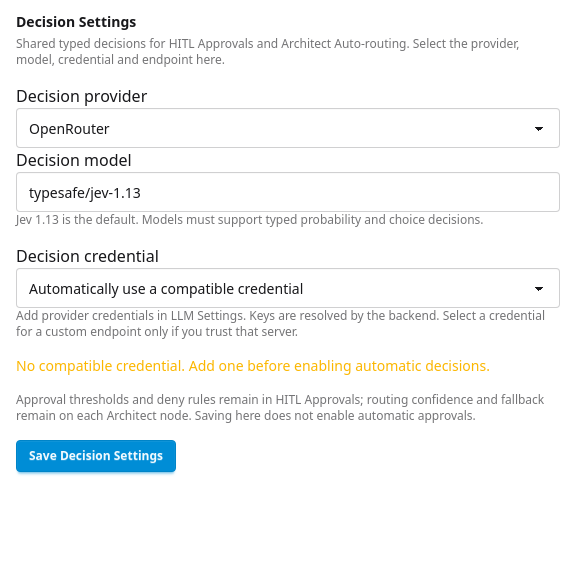
it: DecisionSettingsPanel › retains the draft after a denied save and lets the user retry
Replace the text in the field labelled "Decision model" with "draft": (288, 192) x1=16 y1=172 x2=560 y2=212
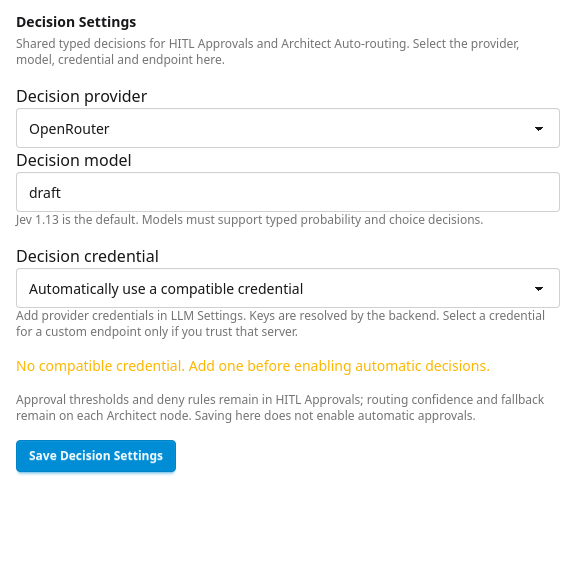
Click the button "Save Decision Settings": (96, 456) x1=16 y1=440 x2=176 y2=472
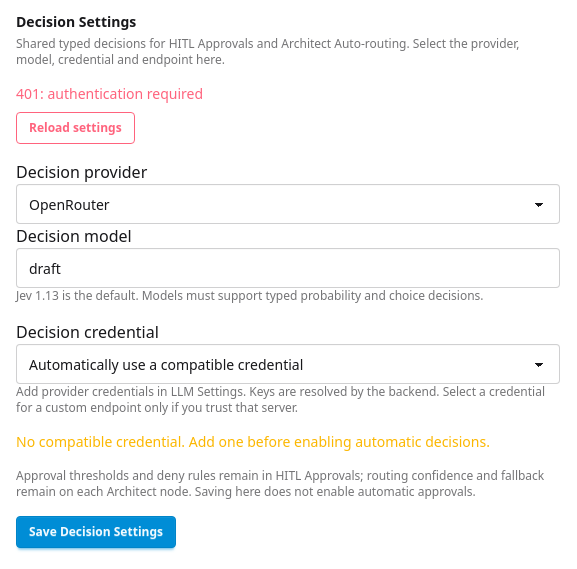
Expected: the text "Decision Settings saved." is not shown
Expected: the message "401: authentication required Reload settings" is shown, x1=16 y1=84 x2=203 y2=144
Click the button "Save Decision Settings": (96, 532) x1=16 y1=516 x2=176 y2=548
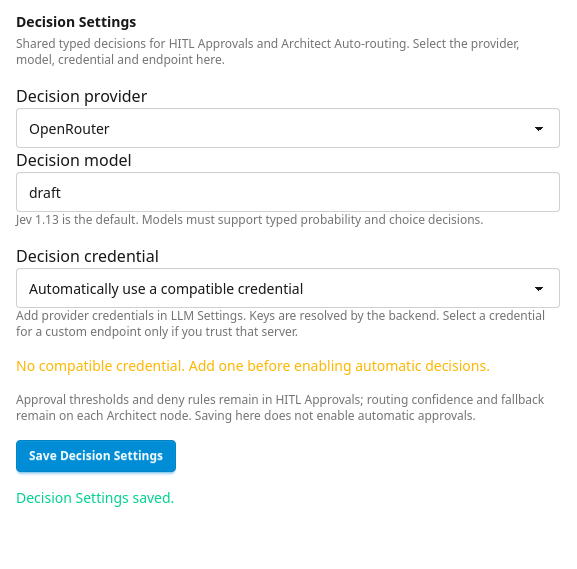
Expected: the text "Decision Settings saved." is shown, x1=16 y1=488 x2=174 y2=507
